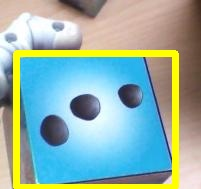Blue3: (16, 53, 175, 187)
